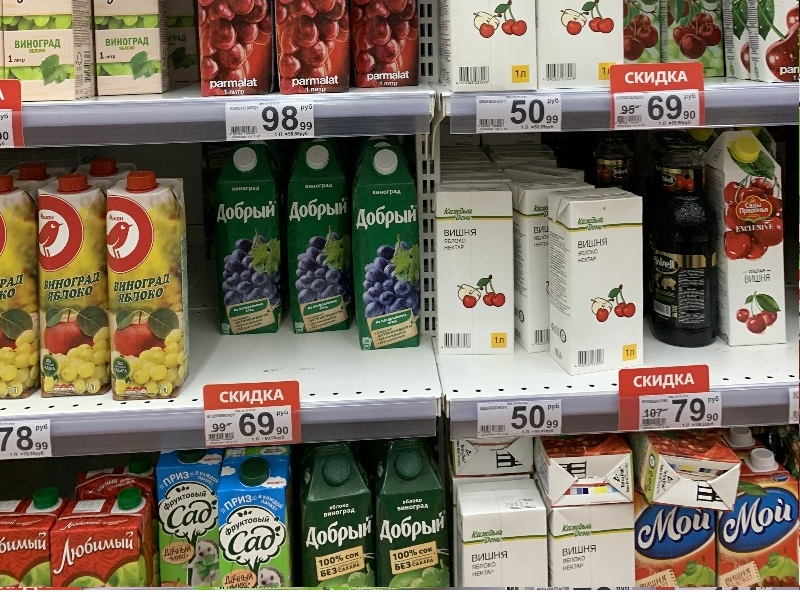juice: (104, 163, 198, 406), (706, 127, 797, 350), (346, 140, 435, 363), (37, 170, 110, 409), (207, 139, 291, 345), (281, 143, 359, 341)
